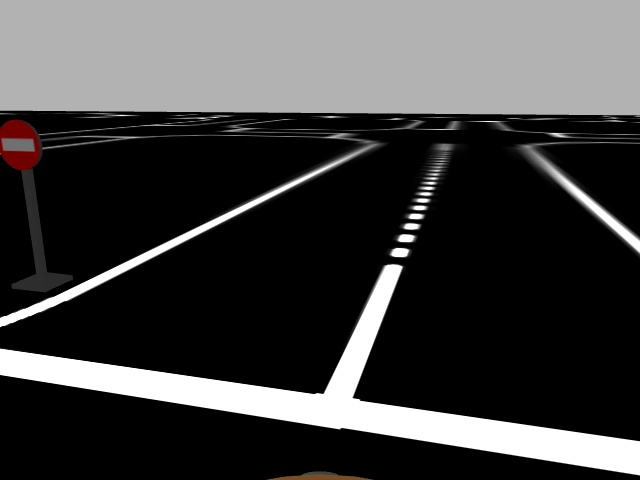prohibited: (2, 119, 39, 175)
